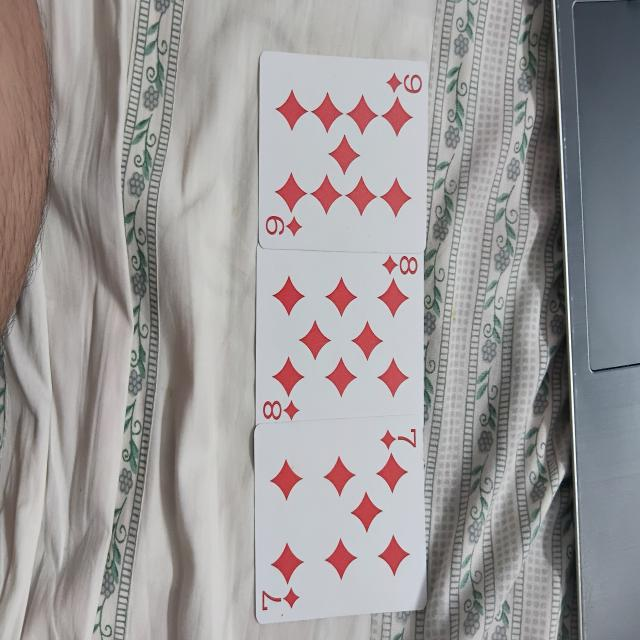7D: (257, 418, 428, 617)
9D: (257, 55, 430, 251)
